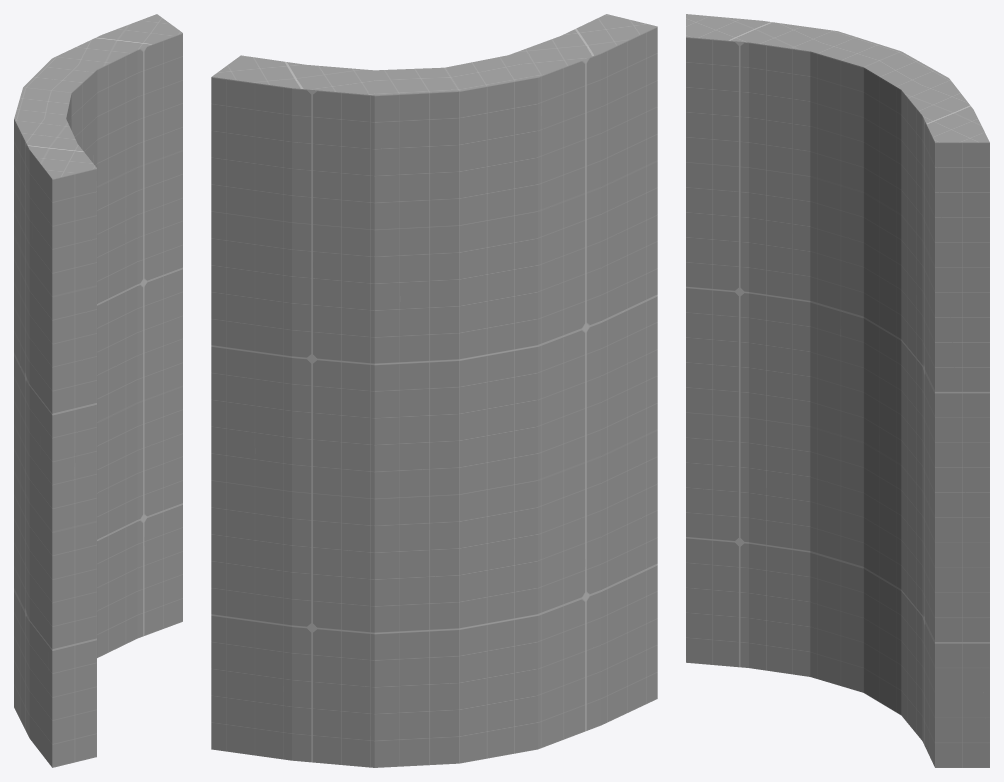
File: RoundCorner_1x1.001.fbx
The picture shows the model from 3 angles, left to right: view 1: azimuth 30°, elevation 25°; view 2: azimuth 150°, elevation 25°; view 3: azimuth 270°, elevation 25°; orthographic projection. The views are drawn at different scales.
Visible parts, largest first — view 1: RoundCorner_1x1.001; view 2: RoundCorner_1x1.001; view 3: RoundCorner_1x1.001.
Part boxes in pixels (x1,y1,x2,y2): RoundCorner_1x1.001: (14,14,182,767); RoundCorner_1x1.001: (211,14,657,767); RoundCorner_1x1.001: (686,14,989,767).
Bounding box in the file's own units: 110 × 250 × 110.
